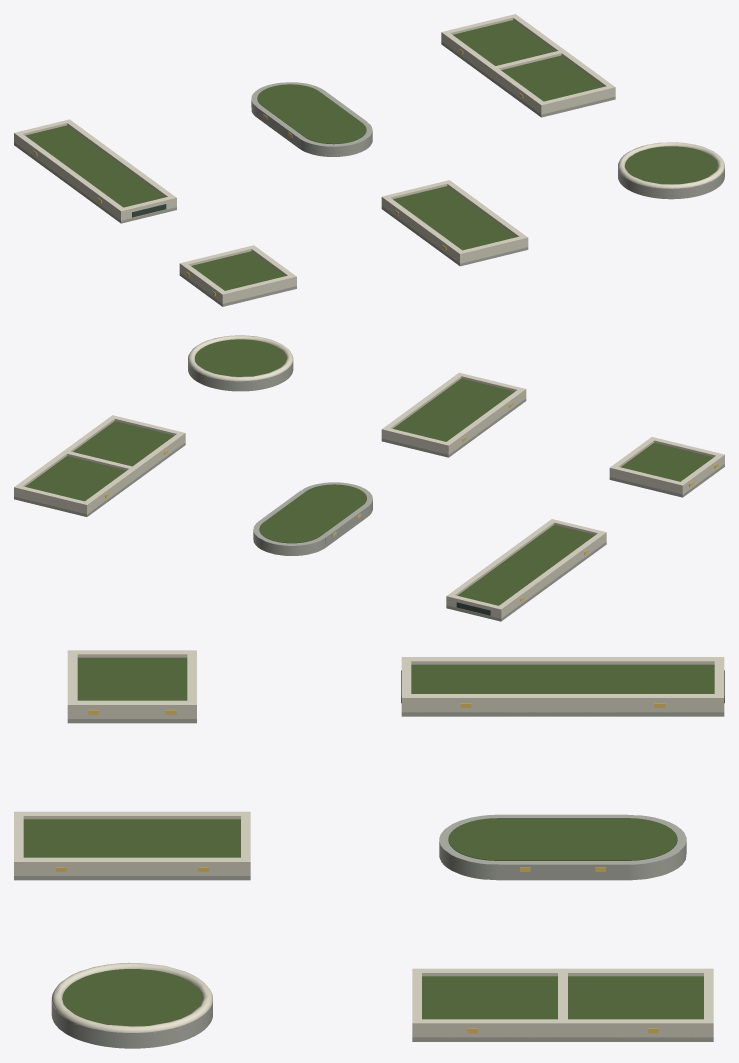
File: planting-beds.glb
3 renders of one model, top to bottom at view 1: azimuth 30°, elevation 25°; view 2: azimuth 150°, elevation 25°; view 3: azimuth 270°, elevation 25°, orthographic. The views are drawn at different scales.
Visible parts, largest first — view 1: bedDouble-soil-2, bedMedian-soil-2, bedRectangle-soil-2, bedRound-soil-2, bedCapsule-soil-4, bedSquare-soil-2, bedMedian-rim-3, bedDouble-rim-3, bedRound-rim-3, bedRectangle-rim-3, bedRound-stone-1, bedCapsule-soil-5 (+13 smaller); view 2: bedDouble-soil-2, bedMedian-soil-2, bedRectangle-soil-2, bedRound-soil-2, bedSquare-soil-2, bedCapsule-soil-4, bedMedian-rim-3, bedDouble-rim-3, bedCapsule-soil-5, bedRectangle-rim-3, bedRound-rim-3, bedRound-stone-1 (+13 smaller); view 3: bedDouble-soil-2, bedMedian-soil-2, bedRectangle-soil-2, bedRound-soil-2, bedMedian-rim-4, bedDouble-rim-4, bedSquare-soil-2, bedRectangle-rim-4, bedCapsule-soil-6, bedCapsule-soil-5, bedCapsule-stone-1, bedRound-rim-3 (+13 smaller).
Boxes of the visible parts, x1,y1,x2,y2 form: bedDouble-soil-2: (453,20,603,101); bedMedian-soil-2: (25,125,164,207); bedRectangle-soil-2: (393,186,516,250); bedRound-soil-2: (625,146,717,184); bedCapsule-soil-4: (262,91,361,136); bedSquare-soil-2: (191,251,285,290); bedMedian-rim-3: (14,131,126,220); bedDouble-rim-3: (441,31,546,114); bedRound-rim-3: (618,142,724,189); bedRectangle-rim-3: (381,195,465,263); bedRound-stone-1: (618,161,724,199); bedCapsule-soil-5: (300,116,366,144); bedDouble-soil-2: (25,421,174,501); bedMedian-soil-2: (457,525,595,605); bedRectangle-soil-2: (393,378,514,441); bedRound-soil-2: (195,339,286,376); bedSquare-soil-2: (621,442,713,481); bedCapsule-soil-4: (264,492,362,535); bedMedian-rim-3: (495,531,606,618); bedDouble-rim-3: (81,431,185,514); bedCapsule-soil-5: (301,484,366,511); bedRectangle-rim-3: (443,387,526,454); bedRound-rim-3: (188,335,293,381); bedRound-stone-1: (188,352,293,391); bedDouble-soil-2: (422,976,703,1019); bedMedian-soil-2: (411,664,714,693); bedRectangle-soil-2: (23,819,240,857); bedRound-soil-2: (62,969,202,1026); bedMedian-rim-4: (401,694,724,712); bedDouble-rim-4: (412,1019,713,1037); bedSquare-soil-2: (77,657,187,700); bedRectangle-rim-4: (14,857,250,875); bedCapsule-soil-6: (577,818,677,860); bedCapsule-soil-5: (448,818,548,860); bedCapsule-stone-1: (498,814,627,880); bedRound-rim-3: (51,962,212,1033).
Size of the model in its own units: 16.71 by 0.4 by 13.21.
